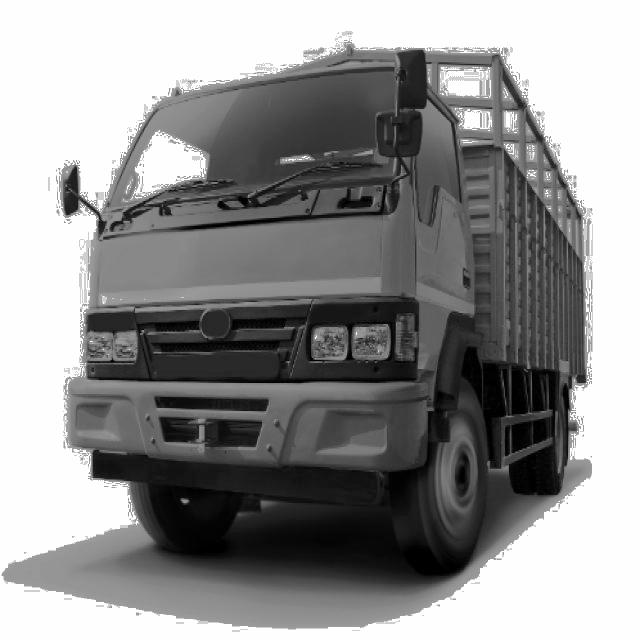HCV: (46, 29, 596, 602)
